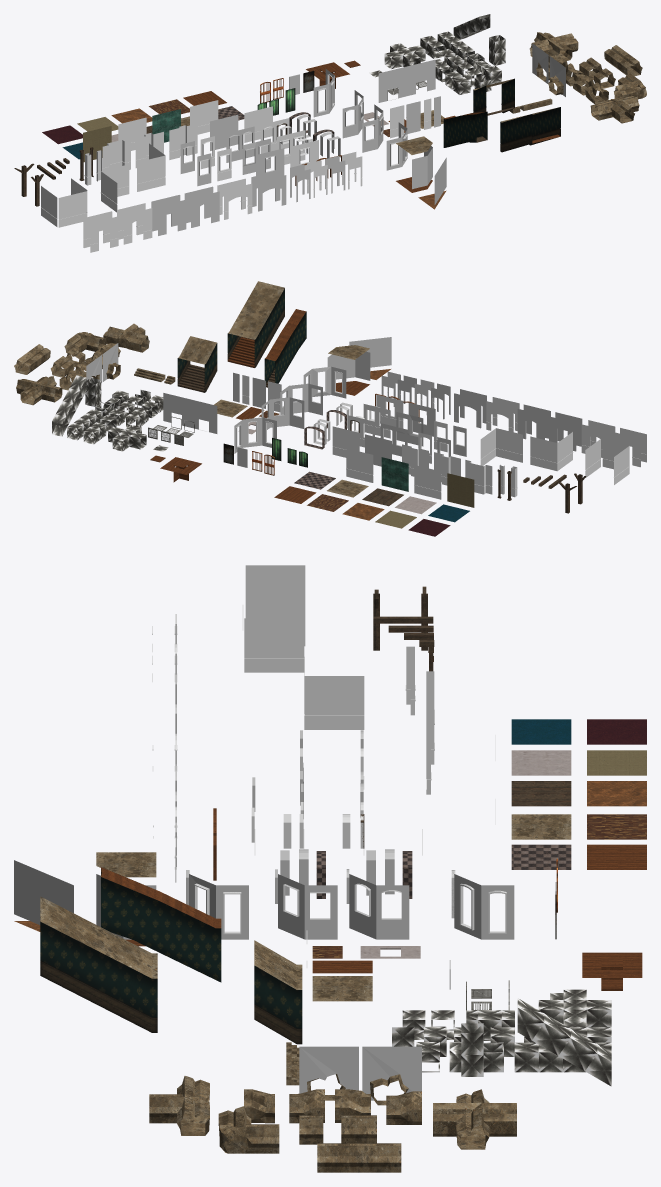
The model's file is PSX House Kit.fbx.
3 renders of one model, top to bottom at view 1: azimuth 30°, elevation 25°; view 2: azimuth 150°, elevation 25°; view 3: azimuth 270°, elevation 25°, orthographic. The views are drawn at different scales.
Parts seen in each view (by area): view 1: Wide Stairs Ceiling, Narrow Long Stairs, Wood Wall Corner 2, Wood Wall Corner 1, Destroyed Tunnel T, Destroyed Tunnel X, Wood Wall Corner Middle, Ceiling Small Stairs, Vent Cross, Plain Wall Air Duct Gate No Casing, Wood Wall Small Column, Plain Wall (+53 smaller); view 2: Wide Stairs Ceiling, Narrow Long Stairs, Ceiling Small Stairs, Wood Wall Corner 2, Wood Wall Corner 1, Vent Floor Change, Destroyed Tunnel X, Destroyed Tunnel T, Plain Wall Triple Corner Curved, Plain Wall Triple Corner, Plain Wall Triple Corner Square, Plain Wall Demo 2 (+50 smaller); view 3: Wide Stairs Ceiling, Narrow Long Stairs, Ceiling Small Stairs, Destroyed Tunnel X, Wood Wall Corner 2, Vent Floor Change, Wood Wall Corner 1, Plain Wall Destoryed Tunnel Entry, Plain Wall Triple Corner Curved, Plain Wall Triple Corner Square, Destroyed Tunnel T, Destroyed Tunnel Long (+30 smaller).
Part boxes in pixels (bbox=[...]): Wide Stairs Ceiling: bbox=[500, 107, 560, 152]; Narrow Long Stairs: bbox=[443, 111, 487, 147]; Wood Wall Corner 2: bbox=[100, 164, 129, 212]; Wood Wall Corner 1: bbox=[137, 143, 165, 191]; Destroyed Tunnel T: bbox=[590, 95, 639, 123]; Destroyed Tunnel X: bbox=[529, 32, 578, 60]; Wood Wall Corner Middle: bbox=[58, 191, 87, 227]; Ceiling Small Stairs: bbox=[473, 78, 514, 113]; Vent Cross: bbox=[384, 43, 425, 69]; Plain Wall Air Duct Gate No Casing: bbox=[378, 66, 407, 102]; Wood Wall Small Column: bbox=[169, 123, 197, 159]; Plain Wall: bbox=[210, 114, 238, 150]; Wide Stairs Ceiling: bbox=[227, 281, 284, 367]; Narrow Long Stairs: bbox=[264, 309, 306, 383]; Ceiling Small Stairs: bbox=[177, 336, 217, 392]; Wood Wall Corner 2: bbox=[530, 432, 573, 471]; Wood Wall Corner 1: bbox=[480, 428, 522, 465]; Vent Floor Change: bbox=[52, 375, 86, 436]; Destroyed Tunnel X: bbox=[16, 376, 62, 405]; Destroyed Tunnel T: bbox=[103, 323, 149, 352]; Plain Wall Triple Corner Curved: bbox=[261, 397, 304, 429]; Plain Wall Triple Corner: bbox=[327, 351, 370, 380]; Plain Wall Triple Corner Square: bbox=[280, 383, 322, 415]; Plain Wall Demo 2: bbox=[381, 457, 408, 491]; Wide Stairs Ceiling: bbox=[40, 896, 157, 1032]; Narrow Long Stairs: bbox=[101, 867, 221, 982]; Ceiling Small Stairs: bbox=[254, 940, 302, 1044]; Destroyed Tunnel X: bbox=[433, 1089, 516, 1149]; Wood Wall Corner 2: bbox=[244, 618, 304, 675]; Vent Floor Change: bbox=[517, 998, 611, 1086]; Wood Wall Corner 1: bbox=[304, 676, 364, 729]; Plain Wall Destoryed Tunnel Entry: bbox=[362, 1046, 421, 1105]; Plain Wall Triple Corner Curved: bbox=[346, 869, 409, 939]; Plain Wall Triple Corner Square: bbox=[275, 869, 337, 939]; Destroyed Tunnel T: bbox=[149, 1076, 209, 1135]; Destroyed Tunnel Long: bbox=[317, 1143, 401, 1172].
Size of the model in its own units: 8512 by 1046 by 4229.
